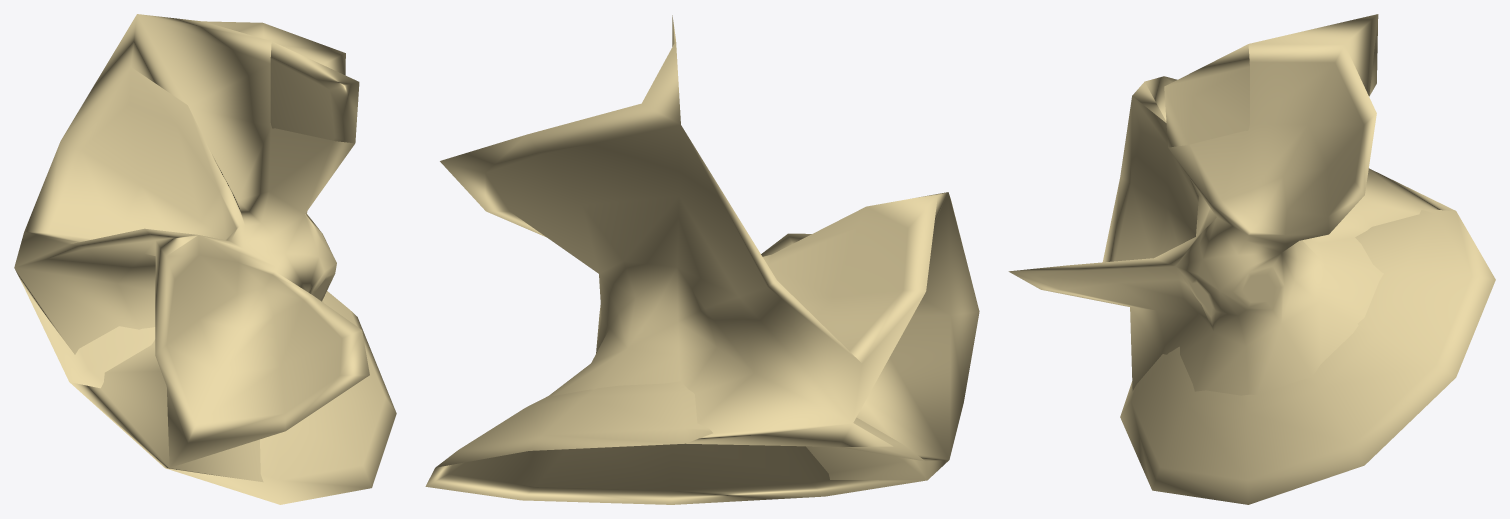
The model's file is corail_wtf_smooth.fbx.
The picture shows the model from 3 angles, left to right: view 1: azimuth 30°, elevation 25°; view 2: azimuth 150°, elevation 25°; view 3: azimuth 270°, elevation 25°; orthographic projection. The views are drawn at different scales.
Parts seen in each view (by area): view 1: corail_WTF; view 2: corail_WTF; view 3: corail_WTF.
Boxes of the visible parts, x1,y1,x2,y2 form: corail_WTF: (14,14,396,504); corail_WTF: (425,15,979,504); corail_WTF: (1008,14,1495,504).
Bounding box in the file's own units: 0.4761 × 0.5563 × 0.5836.
